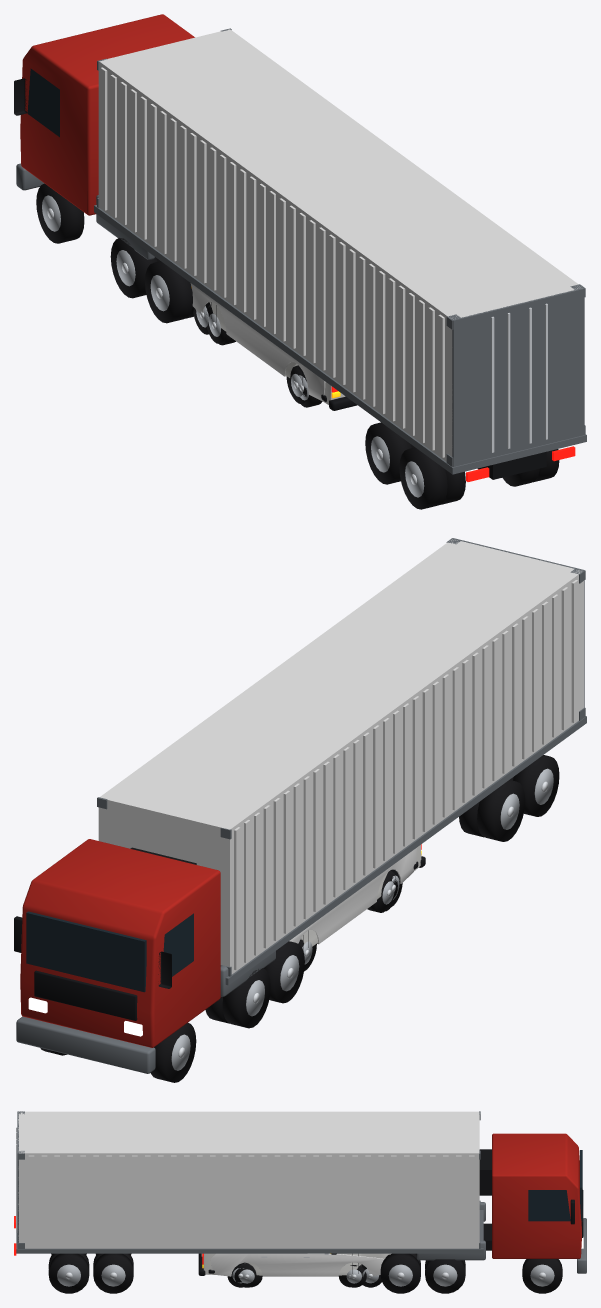
File: cars.glb
The picture shows the model from 3 angles, top to bottom: view 1: azimuth 30°, elevation 25°; view 2: azimuth 150°, elevation 25°; view 3: azimuth 270°, elevation 25°; orthographic projection. The views are drawn at different scales.
Parts seen in each view (by area): view 1: Truck, Sedan, Micro; view 2: Truck, Sedan; view 3: Truck, Sedan, Micro.
Boxes of the visible parts, box(x1,y1,x2,y2) form: Truck: box(14, 14, 586, 509); Sedan: box(190, 283, 326, 403); Micro: box(193, 302, 357, 410); Truck: box(14, 538, 586, 1082); Sedan: box(289, 848, 418, 971); Truck: box(14, 1111, 586, 1293); Sedan: box(208, 1253, 383, 1287); Micro: box(198, 1253, 391, 1287).
Bounding box in the file's own units: 2.9 × 3.84 × 14.16.
